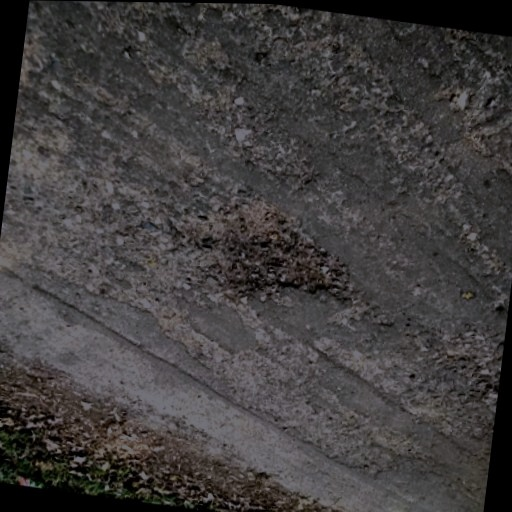pothole: (164, 188, 360, 309)
